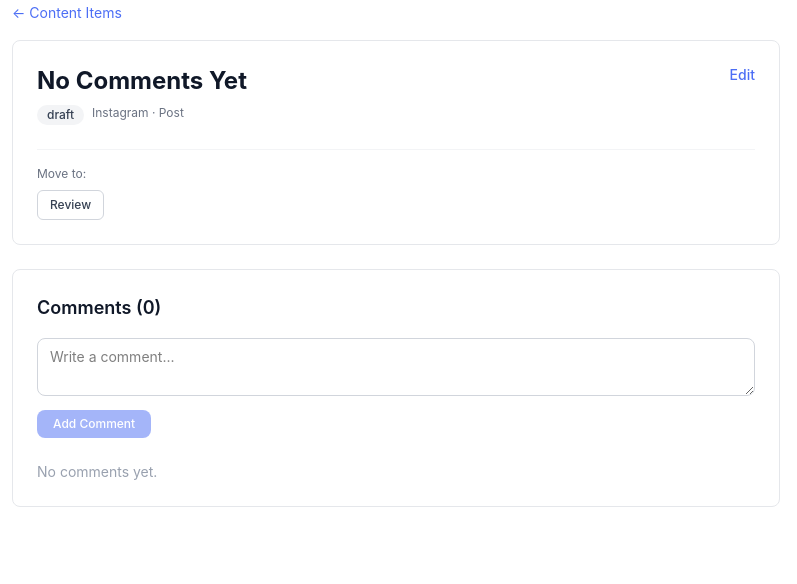
Test: ContentDetail — navigation/import behavior preservation (lint hardening) › handleAddComment: coalesces prev.comments to [] when comments absent from API response
Check: the heading "No Comments Yet" is shown, box [37,65,247,97]
Check: the heading "Comments (0)" is shown, box [37,297,161,318]
# Fill in comment form
Type "My first comment" into the text box with placeholder "Write a comment...". click: (396, 367)
box: [37,338,755,396]
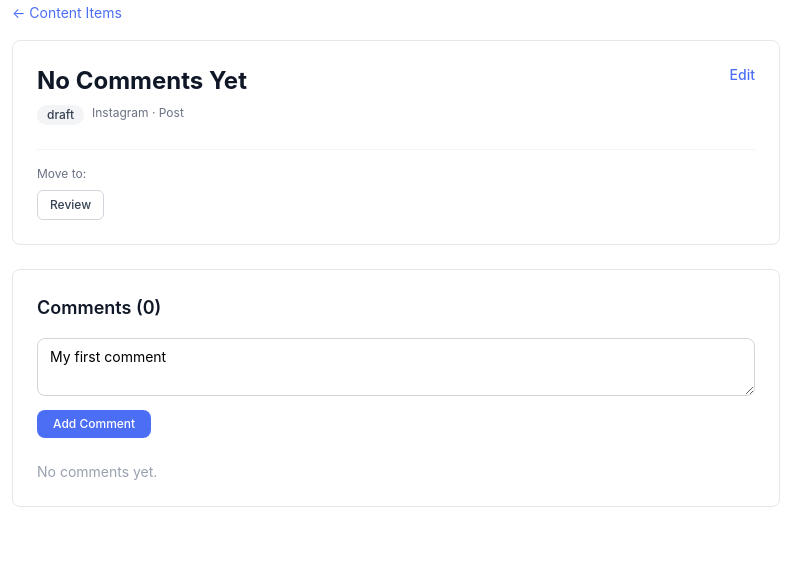
# Submit the form
Click the button "Add Comment". click: (94, 424)
box: [37,410,151,438]
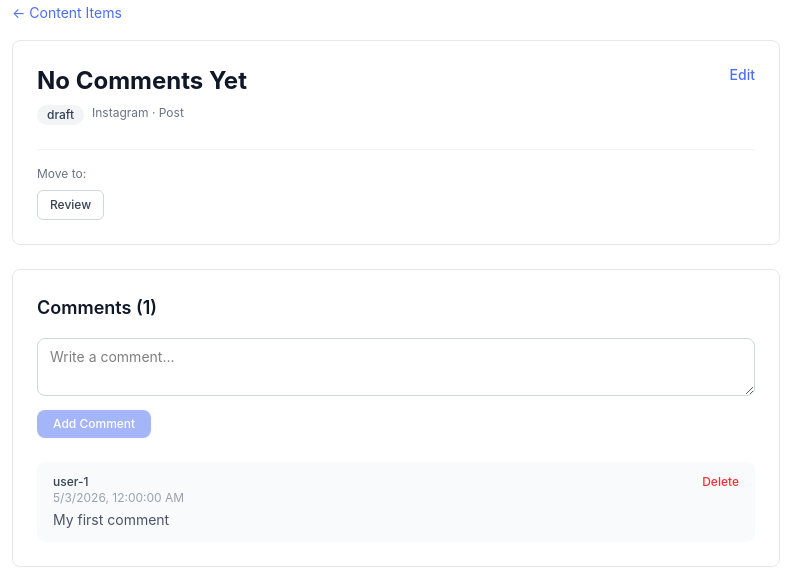
Check: the text box "My first comment" is shown, box [37,338,755,396]
Check: the heading "Comments (1)" is shown, box [37,297,157,318]
